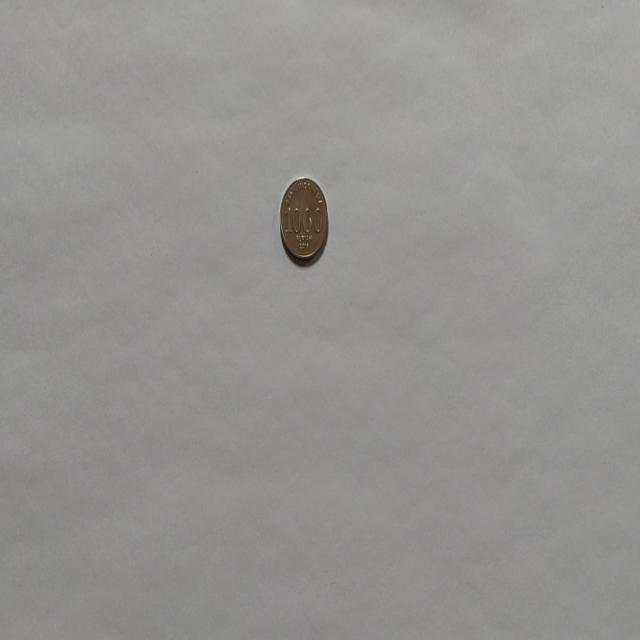seribu rupiah koin: (278, 174, 329, 264)
